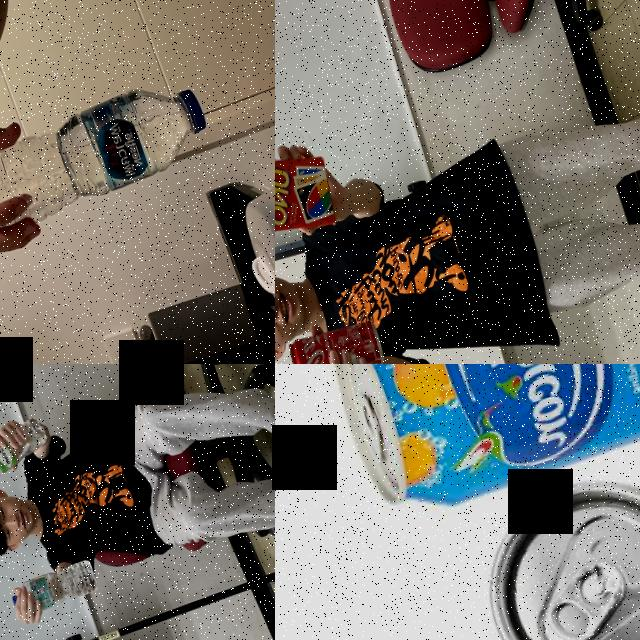bottle: (0, 69, 221, 239), (5, 555, 102, 621), (0, 414, 55, 482)
can: (313, 364, 640, 530), (281, 309, 389, 364)
